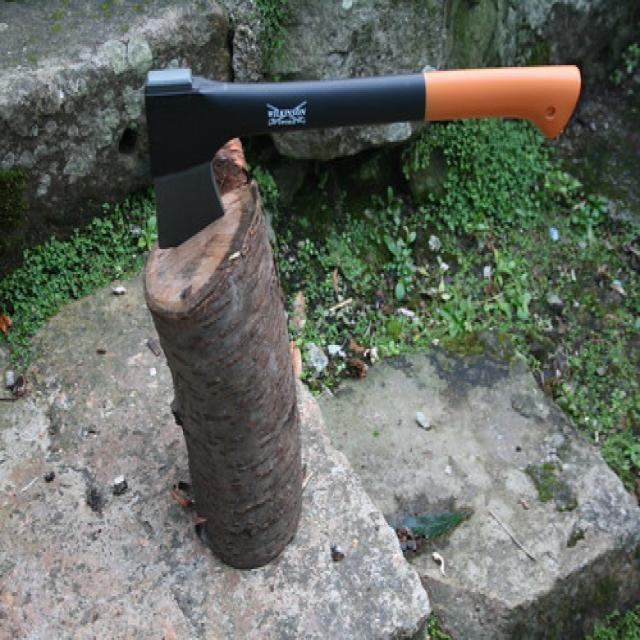Axe: (145, 65, 580, 248)
